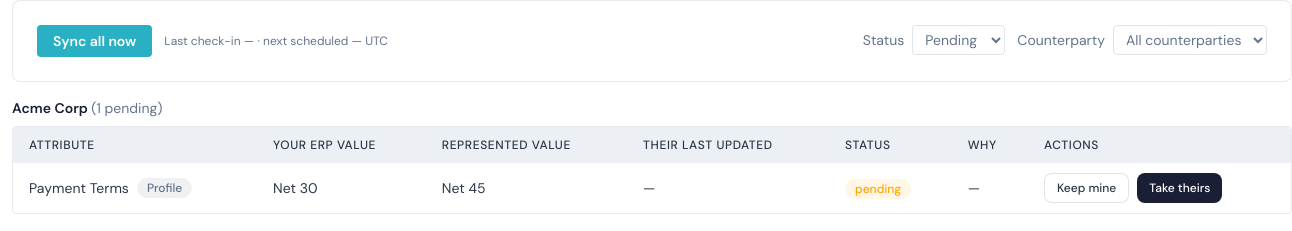
Test: CounterpartyUpdatesTab › Take theirs POSTs { keep: "theirs" }
The width and height of the screenshot is (1292, 231).
Expected: the text "Payment Terms" is shown, [29,178,129,198]
Click the button "Take theirs": {"x": 1180, "y": 188} [1137,173,1222,203]
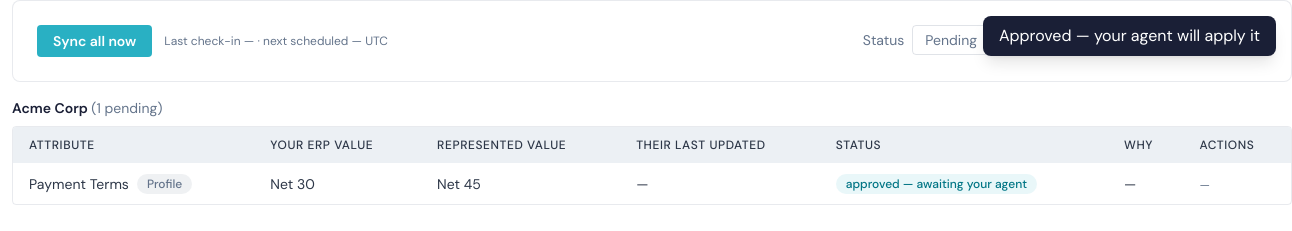
Expected: the text "approved — awaiting your agent" is shown, [836,174,1037,194]
